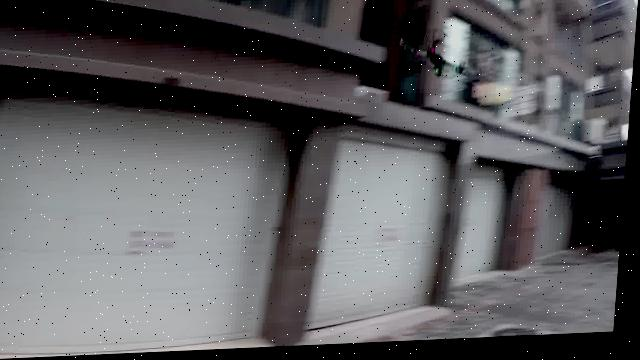drone: (389, 35, 496, 88)
